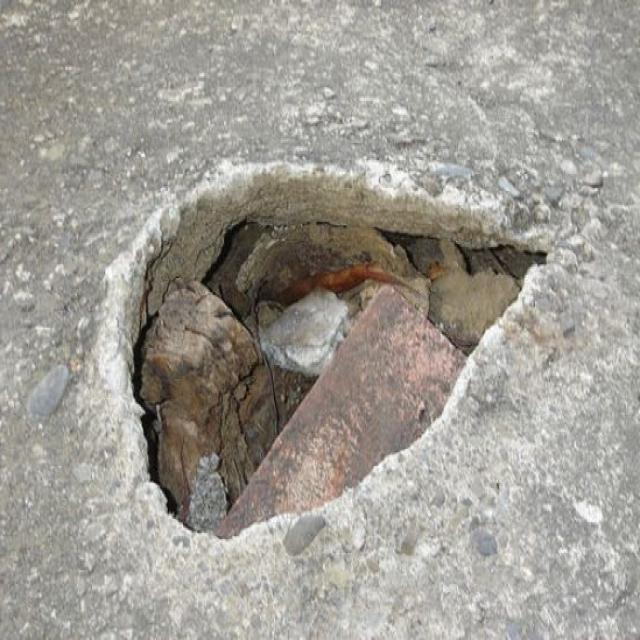Pothole: (105, 156, 566, 541)
